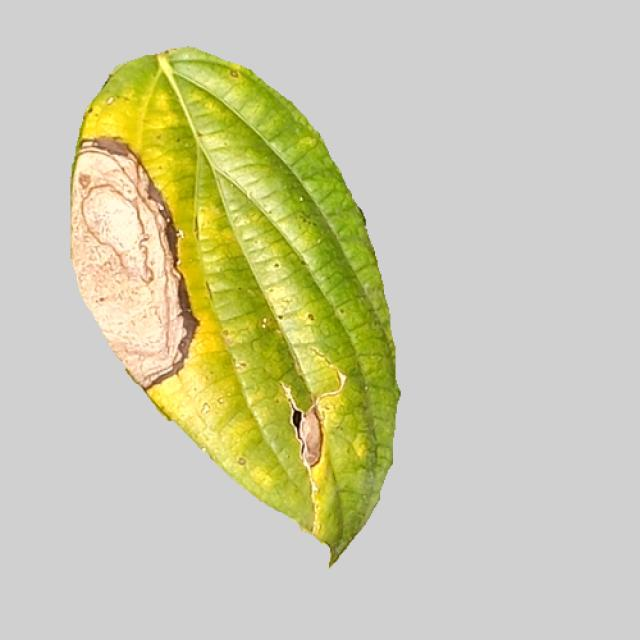leaf-blight: (49, 52, 402, 566)
